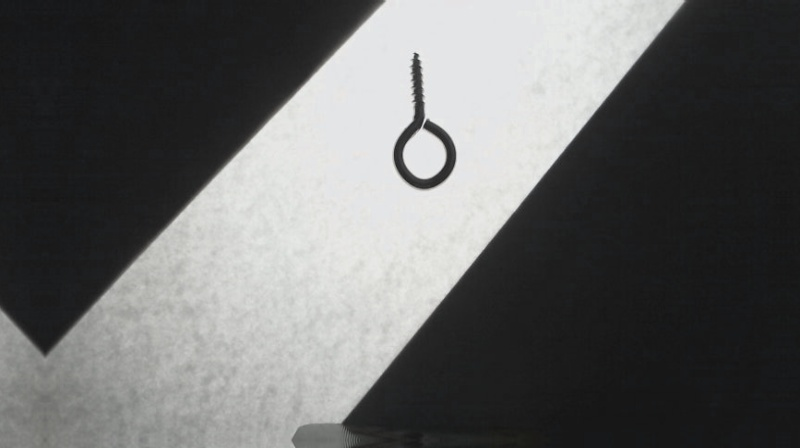O001: (390, 50, 459, 191)
